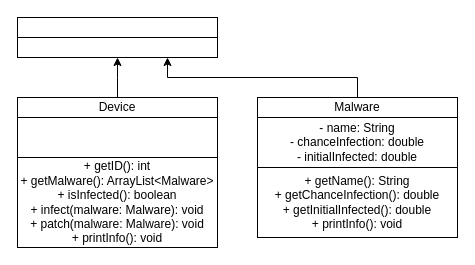
This 475x265 diagram has some shape labels left out. Here are the shapes that lost their labels. From the top down, the centre of each, then its label:
the point at 117,27: xDemic
the point at 117,47: + main(args[]: String): void
the point at 117,137: - ID: int - malwareList: ArrayList<Malware>
